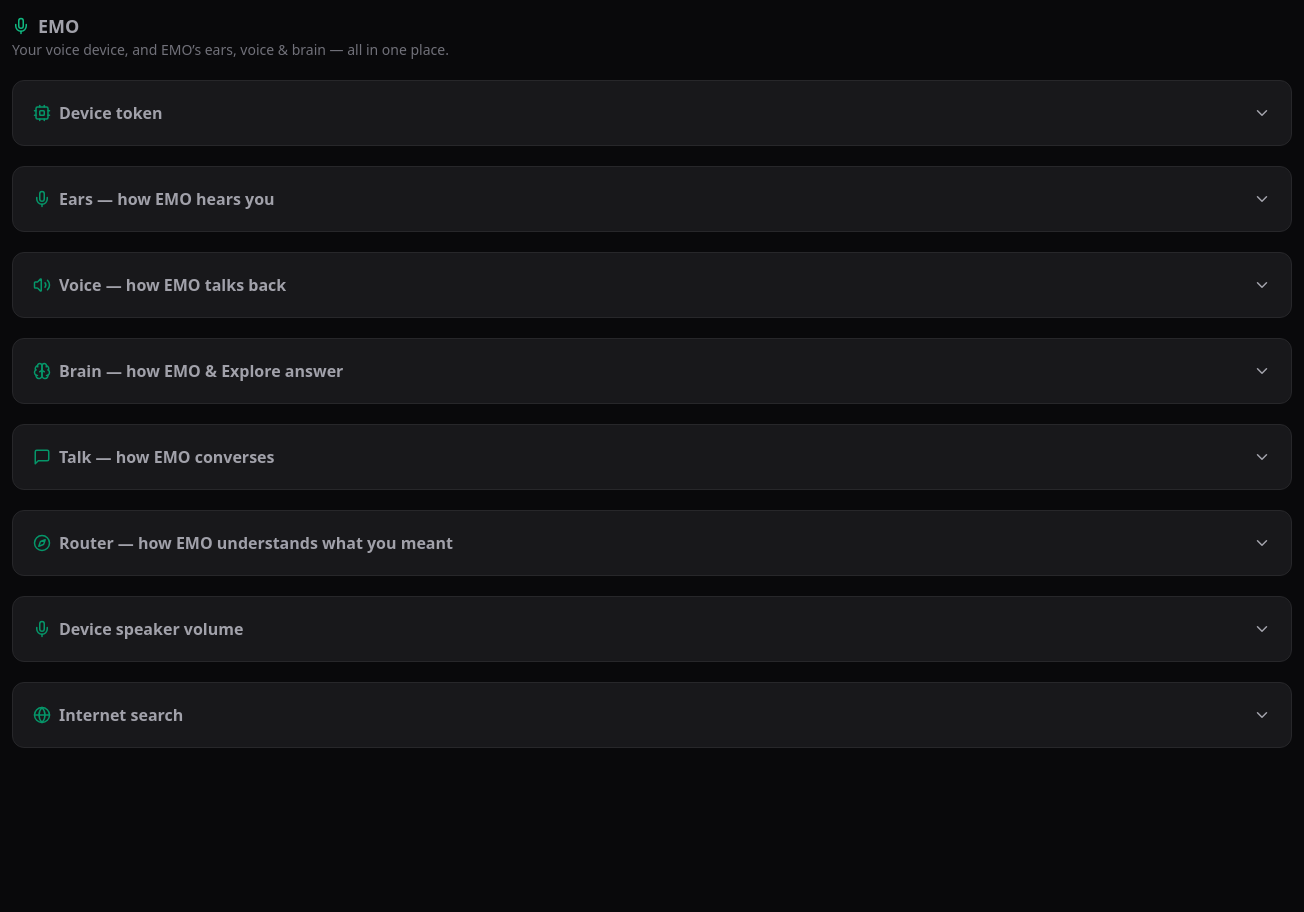
Test: Settings → EMO → Device token (DEVICE-TOKEN-ROTATION) › draws nothing when there is no previous key
The image size is (1304, 912).
Click the button "Device token" at (111, 113), box [13, 81, 1291, 145]
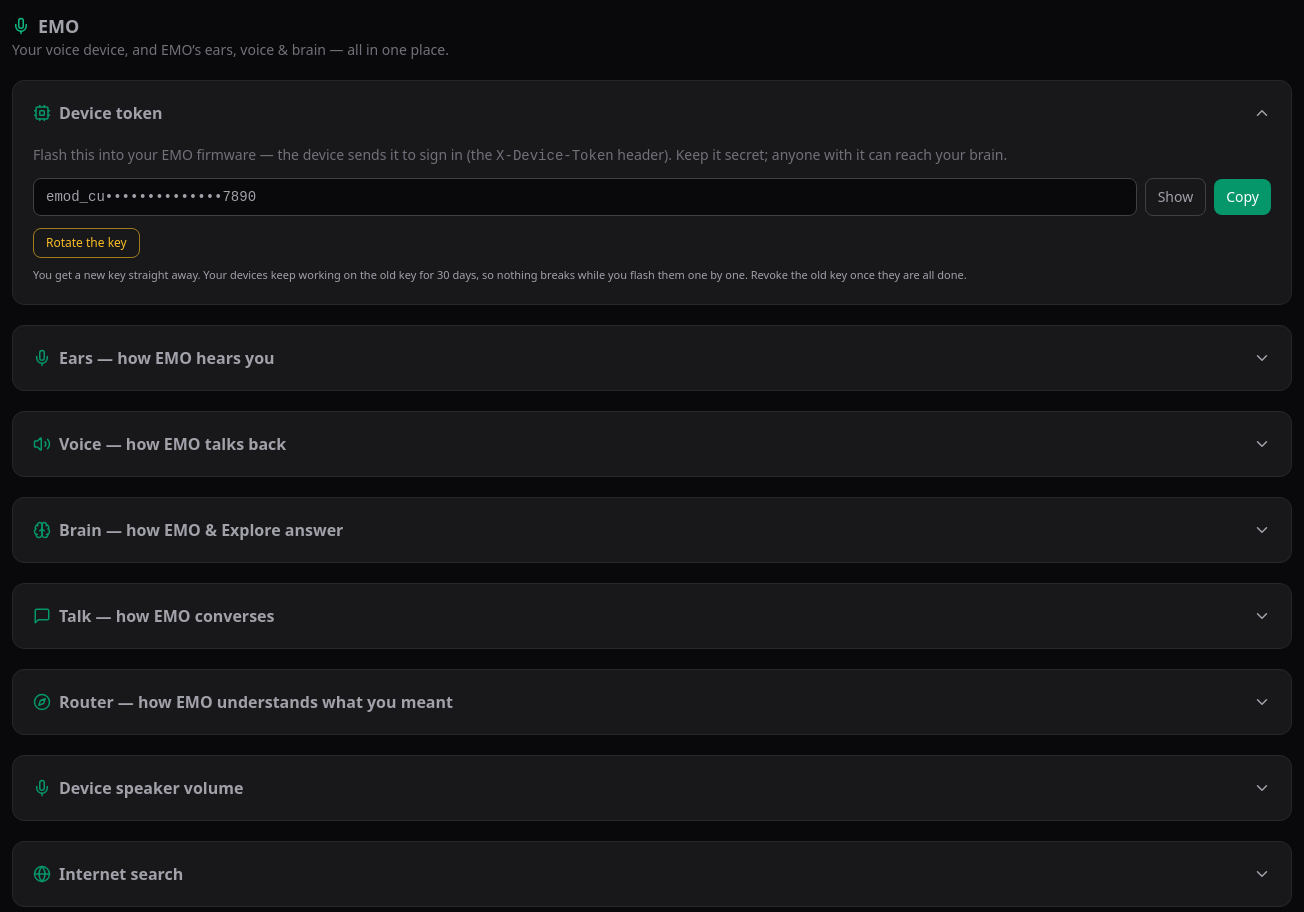
Now the button with test id "device-token-rotate" is shown, box [33, 228, 140, 258]
